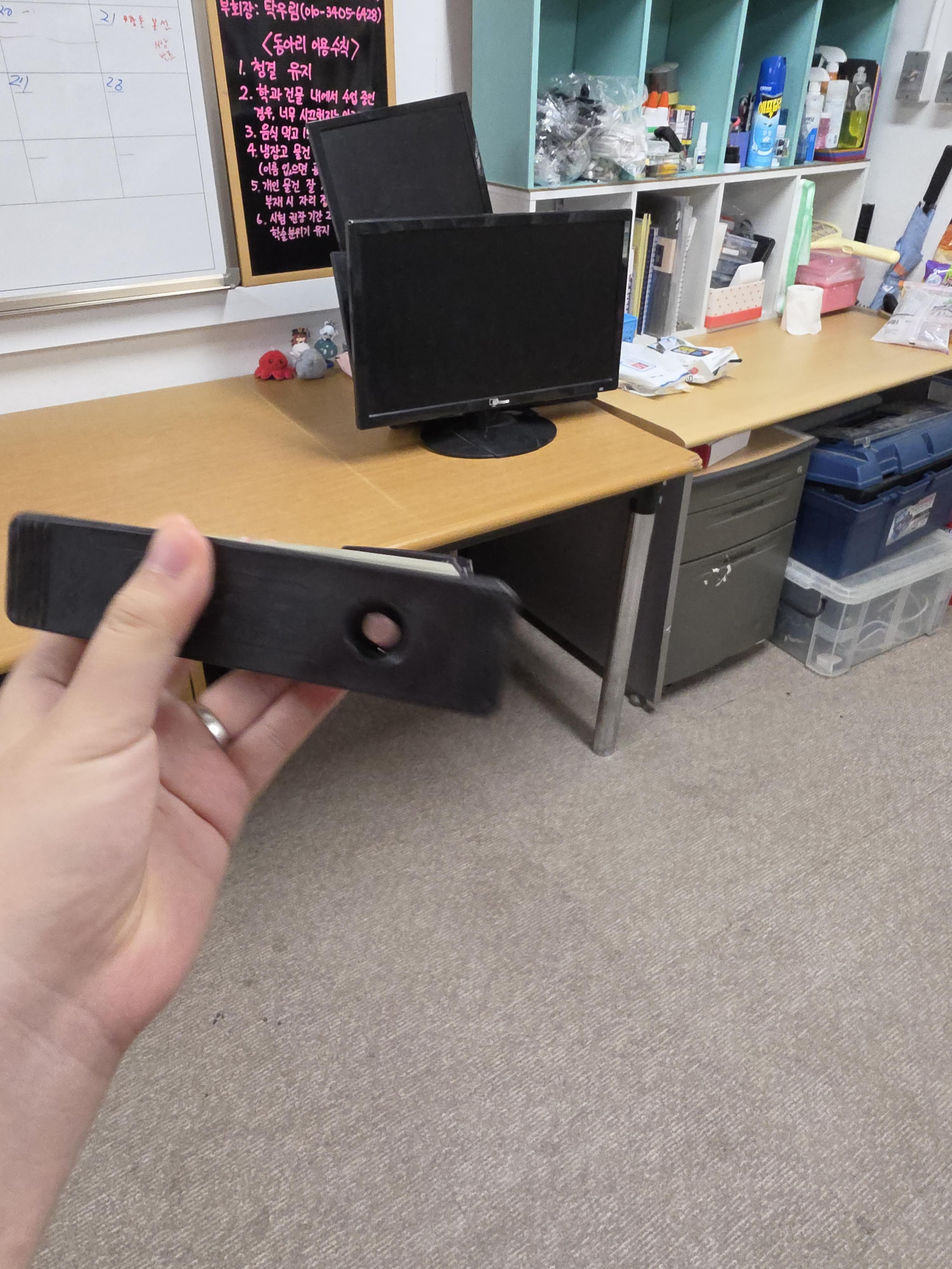stapler: (6, 512, 522, 718)
tissue: (704, 261, 766, 330), (784, 283, 824, 337)
